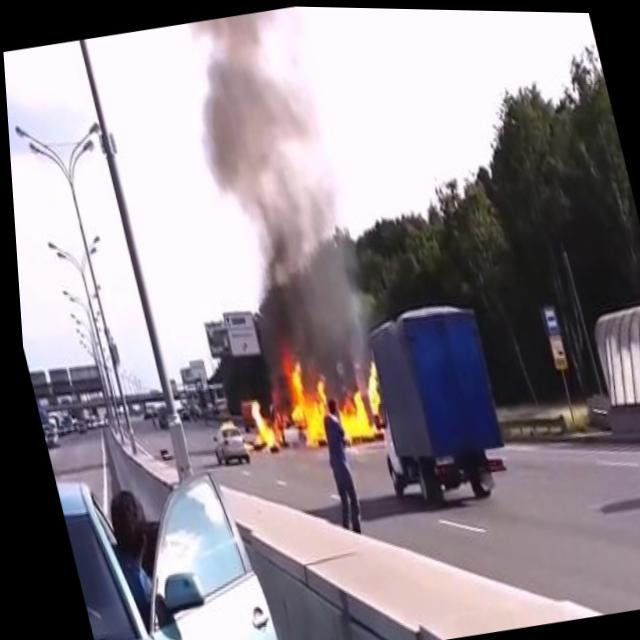fire: (232, 349, 374, 462)
